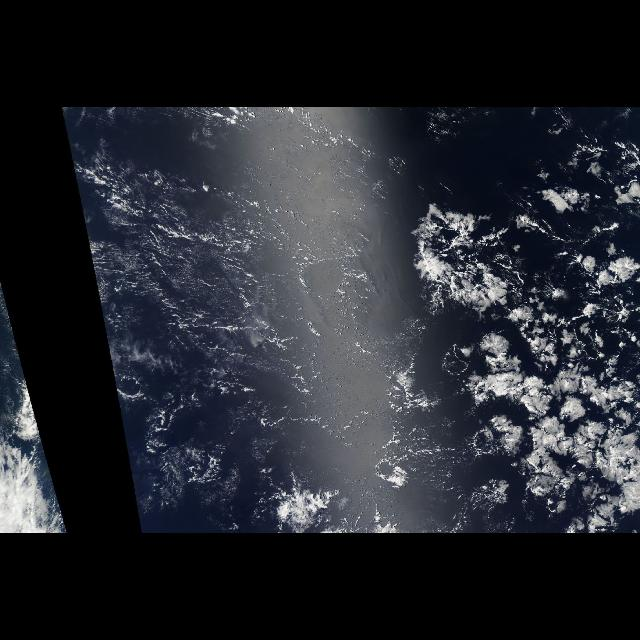Flower: (417, 152, 639, 530)
Gravel: (136, 139, 372, 489)
Sugar: (96, 187, 278, 365)
